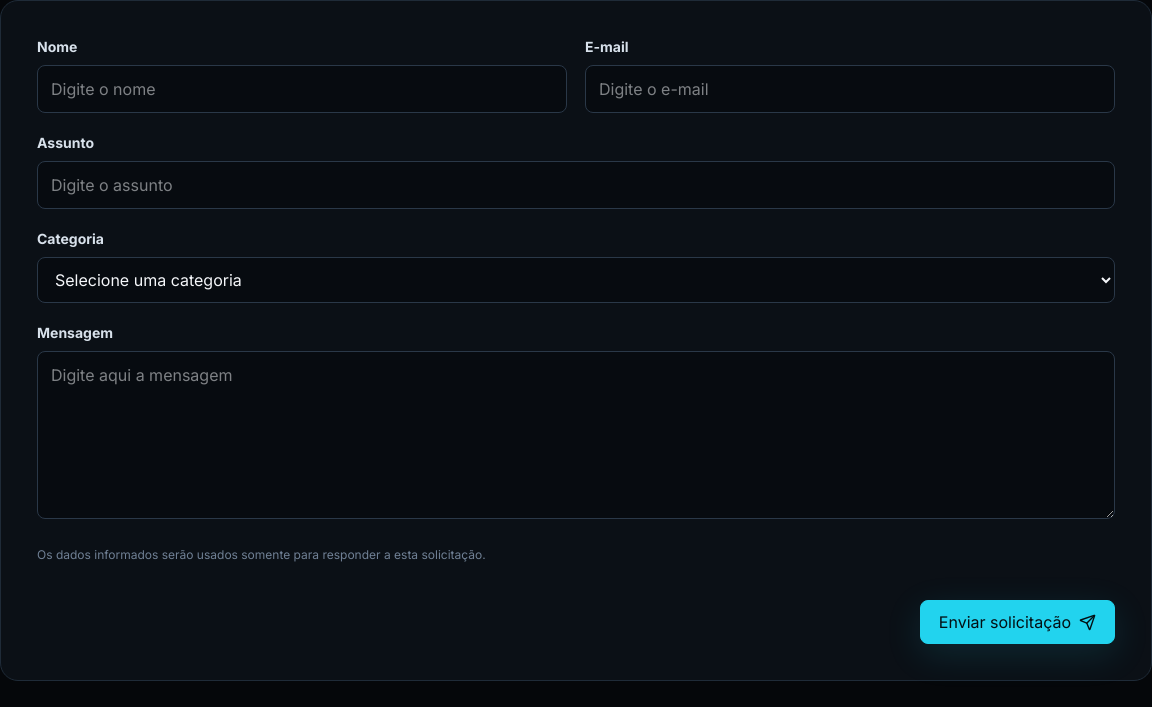
Test: SupportForm › valida com Zod no cliente antes de executar a ação
The width and height of the screenshot is (1152, 707).
Click the button "Enviar solicitação".
click(1017, 622)  # box [920,600,1115,644]
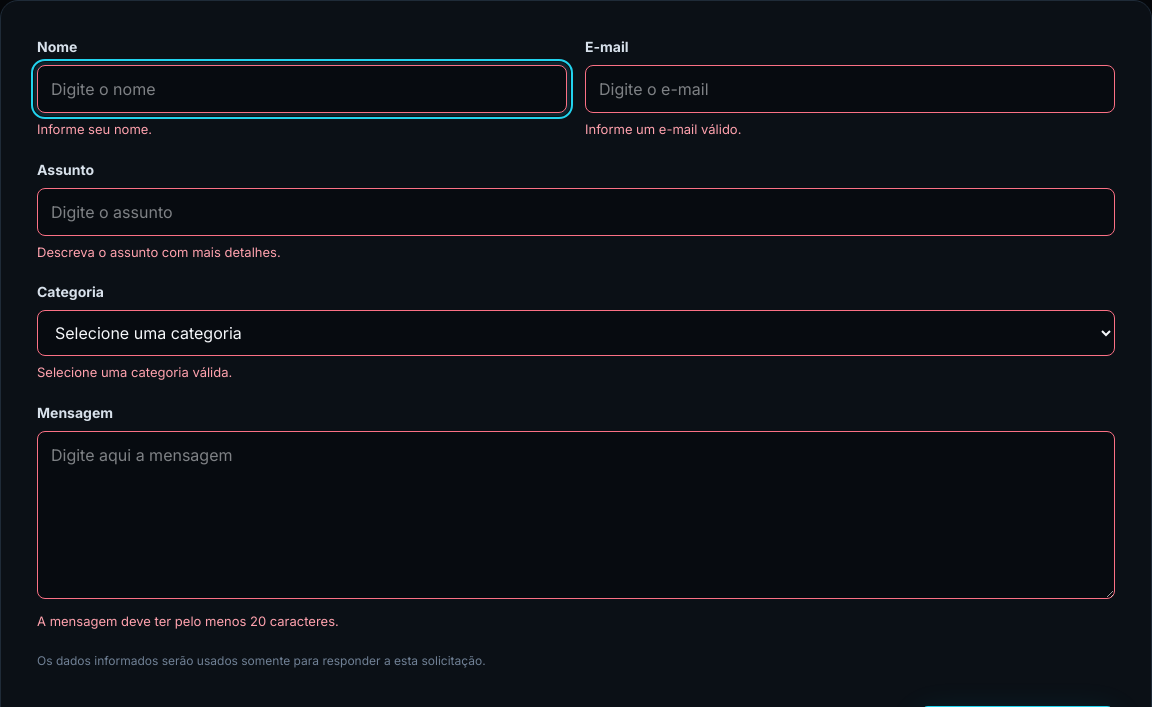
Expected: the text "Informe seu nome." is shown, [37,121,152,137]
